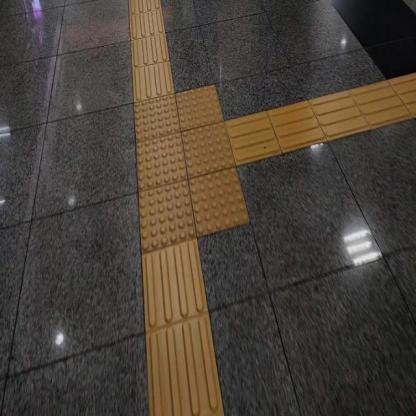podotacti: (106, 64, 266, 270), (236, 68, 416, 167), (141, 254, 224, 415), (128, 0, 176, 93)
